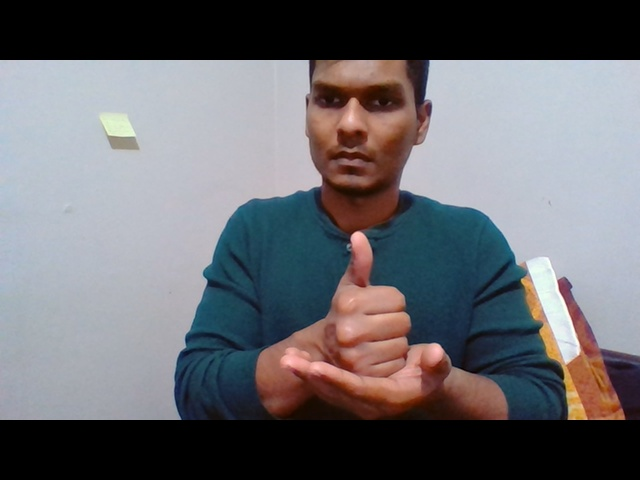Help: (279, 227, 455, 419)
